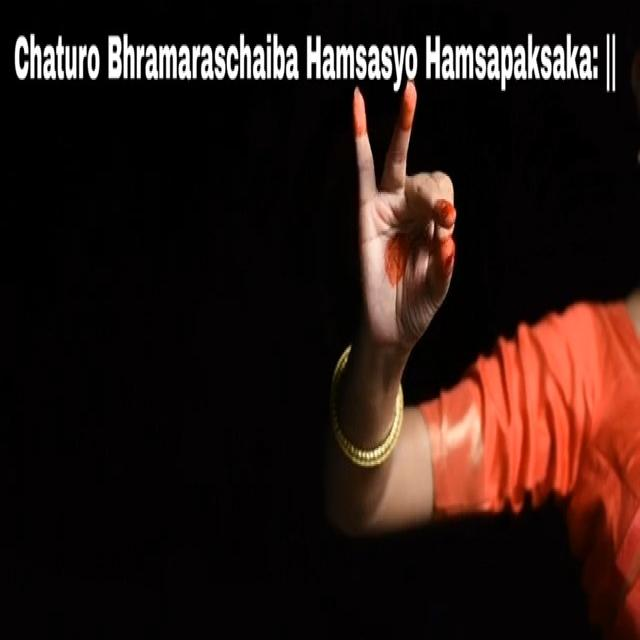Bhramara: (330, 78, 475, 360)
bangle: (322, 356, 406, 486)
text: (5, 19, 625, 98)
